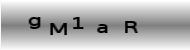1: (71, 16, 83, 29)
M: (48, 22, 67, 35)
R: (123, 20, 138, 33)
a: (96, 23, 107, 33)
g: (28, 16, 40, 29)
